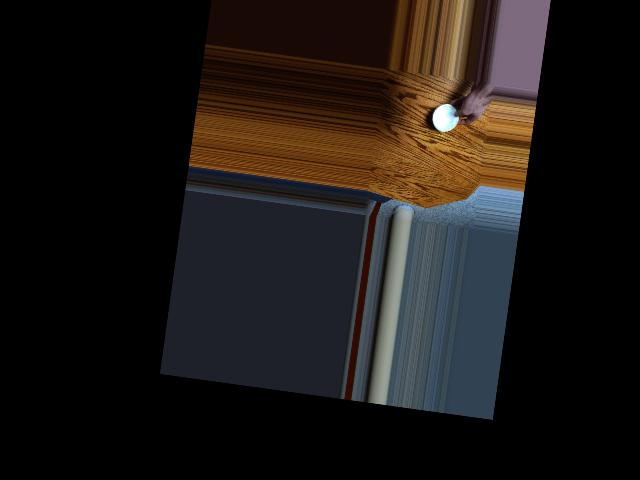cotage: (429, 97, 464, 136)
